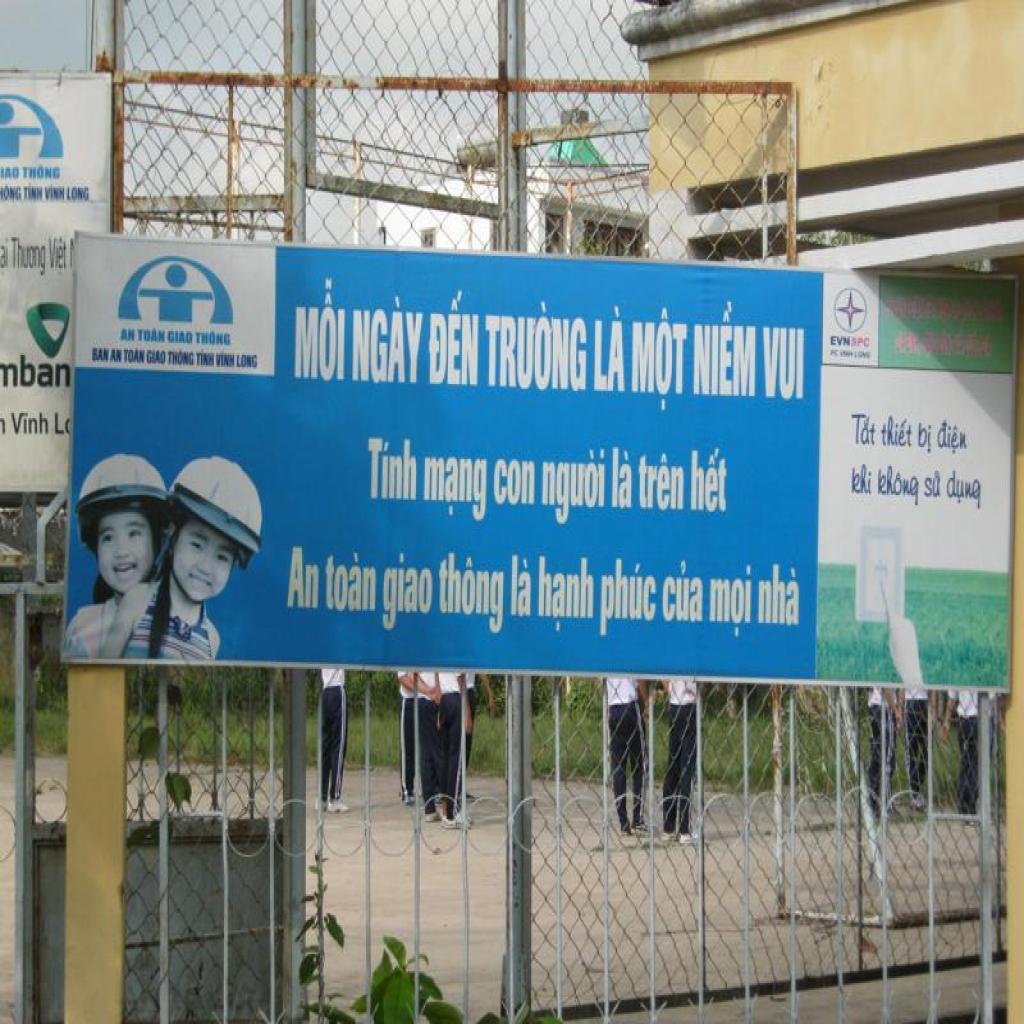text: (483, 300, 590, 394), (351, 290, 429, 388), (691, 297, 758, 399), (294, 273, 350, 386), (439, 548, 507, 640), (632, 304, 689, 413), (541, 446, 607, 529), (428, 289, 482, 389), (599, 556, 658, 645), (538, 553, 596, 637), (422, 454, 489, 526), (379, 549, 435, 635), (760, 324, 808, 403), (322, 550, 378, 616), (709, 563, 754, 640), (368, 435, 418, 504), (638, 447, 686, 516), (592, 304, 628, 394), (663, 558, 705, 630), (689, 446, 731, 516), (285, 544, 320, 613), (493, 456, 536, 510), (18, 350, 74, 391), (876, 460, 920, 508), (9, 236, 49, 282), (945, 468, 984, 514), (609, 445, 634, 512), (510, 553, 532, 623), (879, 413, 914, 452), (8, 410, 51, 440), (937, 418, 969, 456), (45, 234, 70, 282), (850, 409, 878, 449), (850, 461, 874, 498), (20, 164, 62, 182), (195, 330, 234, 348), (923, 469, 942, 502), (138, 326, 168, 345), (65, 186, 92, 207), (917, 422, 933, 456), (168, 350, 196, 369), (235, 352, 260, 372), (22, 184, 45, 205), (828, 331, 853, 350), (44, 184, 66, 205), (123, 348, 147, 367), (1, 183, 23, 203), (196, 348, 216, 370), (146, 348, 168, 367), (168, 330, 194, 346), (215, 352, 237, 370), (52, 410, 66, 438), (91, 346, 111, 364), (851, 334, 873, 350), (2, 164, 22, 181), (119, 328, 137, 343), (109, 348, 124, 365)
